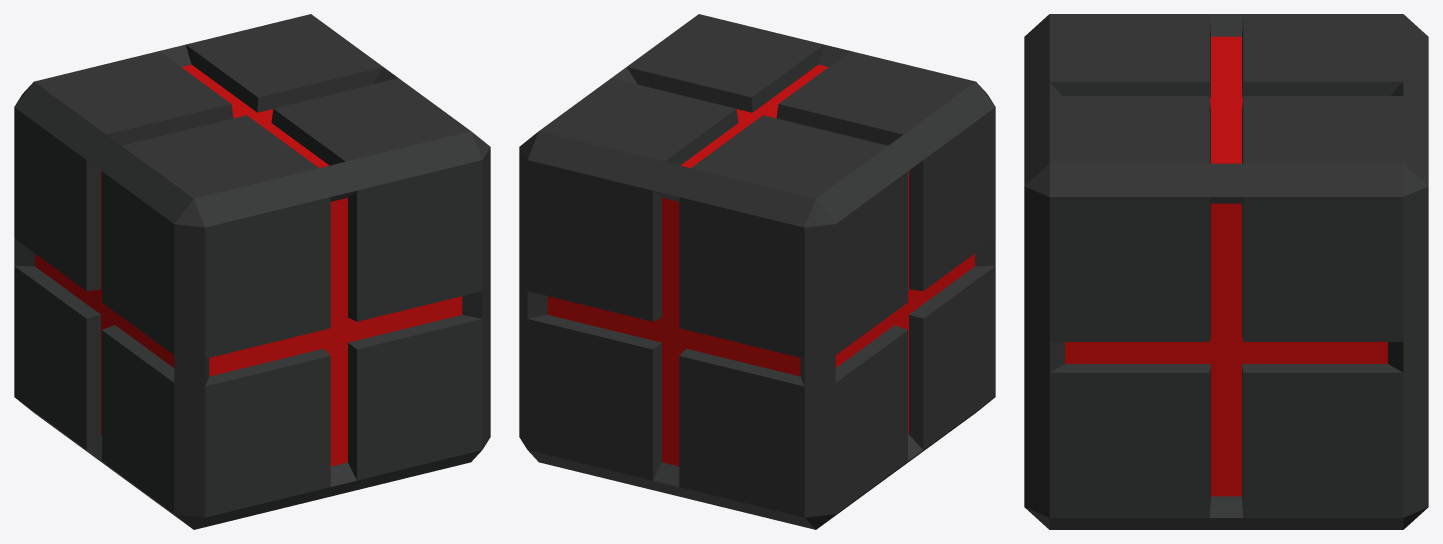
Rendered from healthBox.fbx.
The picture shows the model from 3 angles, left to right: view 1: azimuth 30°, elevation 25°; view 2: azimuth 150°, elevation 25°; view 3: azimuth 270°, elevation 25°; orthographic projection. The views are drawn at different scales.
Visible parts, largest first — view 1: Cube; view 2: Cube; view 3: Cube.
Part boxes in pixels (box(x1,y1,x2,y2)): Cube: box(14, 14, 490, 529); Cube: box(519, 14, 995, 529); Cube: box(1024, 14, 1428, 529).
Size of the model in its own units: 200 by 200 by 200.
